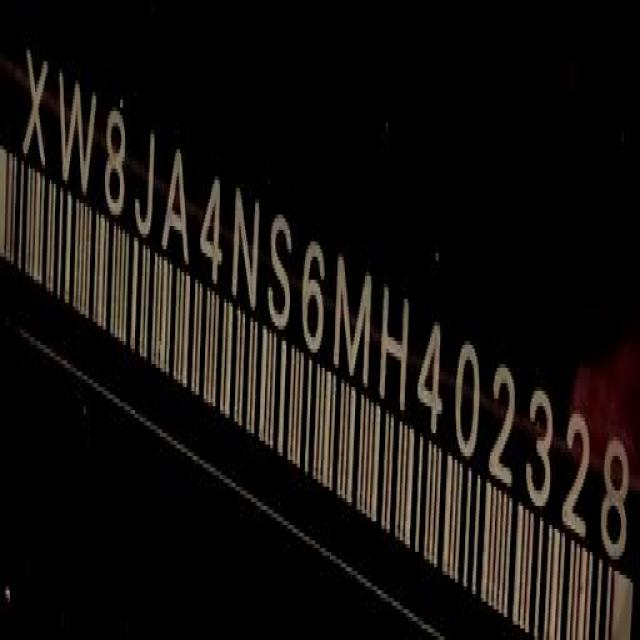0: (453, 344, 481, 454)
2: (562, 406, 592, 546), (488, 358, 516, 490)
3: (526, 390, 554, 516)
4: (415, 312, 444, 446), (199, 174, 225, 290)
6: (302, 241, 326, 355)
8: (600, 424, 629, 570), (102, 108, 129, 224)
A: (162, 145, 191, 278)
H: (377, 284, 411, 417)
J: (134, 131, 158, 247)
M: (331, 248, 372, 388)
N: (227, 187, 261, 324)
S: (266, 206, 294, 342)
W: (57, 63, 100, 210)
X: (18, 48, 51, 171)
